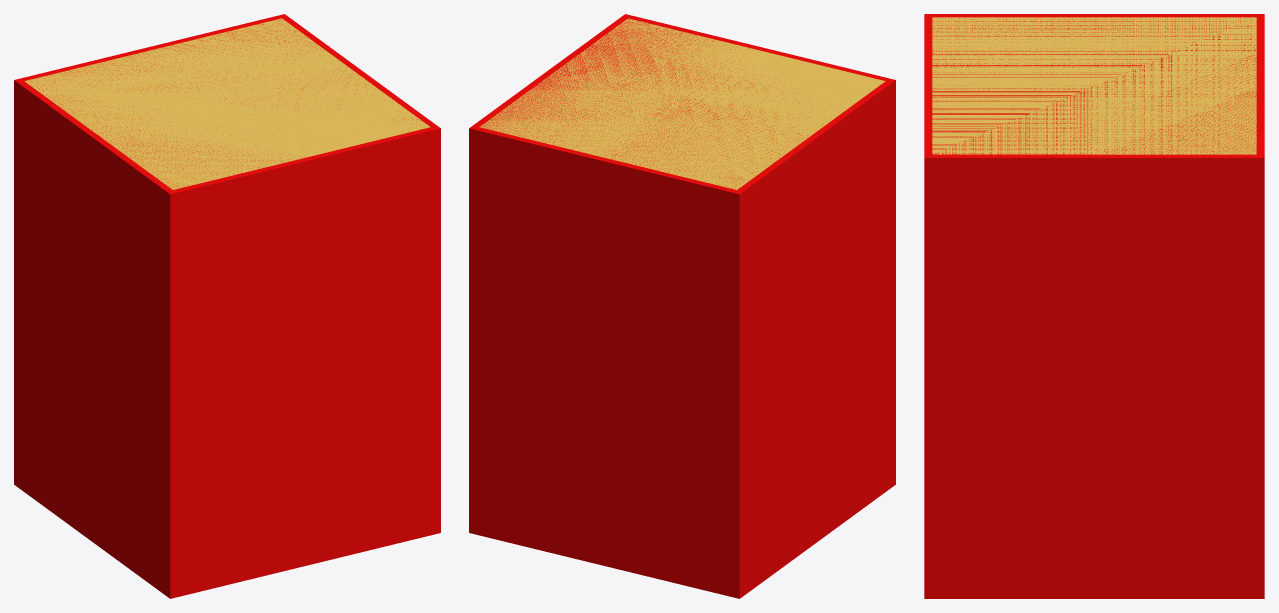
File: TRIO_C20_test-block_1x1_CCCC.glb
3 renders of one model, left to right at view 1: azimuth 30°, elevation 25°; view 2: azimuth 150°, elevation 25°; view 3: azimuth 270°, elevation 25°, orthographic. The views are drawn at different scales.
Parts seen in each view (by area): view 1: BLOCK_tower, TOWER; view 2: BLOCK_tower, TOWER; view 3: BLOCK_tower, TOWER.
Boxes of the visible parts, x1,y1,x2,y2 form: BLOCK_tower: (14,14,440,598); TOWER: (24,18,430,189); BLOCK_tower: (469,14,895,598); TOWER: (480,18,885,189); BLOCK_tower: (924,14,1264,598); TOWER: (932,17,1256,154).
Size of what is drawn, in the model's own units: 4.2 by 6 by 4.2.
